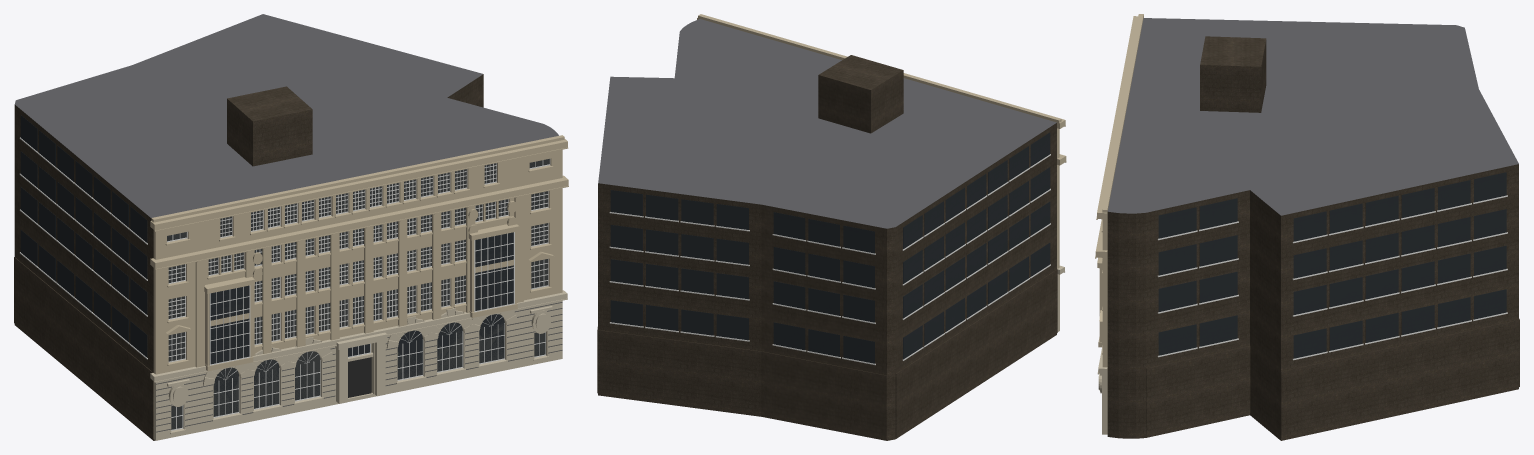
The model's file is hero_m_src.glb.
The picture shows the model from 3 angles, left to right: view 1: azimuth 30°, elevation 25°; view 2: azimuth 150°, elevation 25°; view 3: azimuth 270°, elevation 25°; orthographic projection. The views are drawn at different scales.
Visible parts, largest first — view 1: HERO_body, HERO_cornice.001, HERO_glass, HERO_cartouche, HERO_fan_bar, HERO_rustication_groove, HERO_door_left; view 2: HERO_body, HERO_glass, HERO_fan_bar, HERO_cornice.001; view 3: HERO_body, HERO_glass, HERO_cornice.001, HERO_fan_bar, HERO_cartouche.
Part boxes in pixels (x1=…): HERO_body: x1=14, y1=14, x2=558, y2=440; HERO_cornice.001: x1=150, y1=135, x2=568, y2=374; HERO_glass: x1=20, y1=115, x2=549, y2=429; HERO_cartouche: x1=150, y1=290, x2=567, y2=440; HERO_fan_bar: x1=19, y1=137, x2=550, y2=430; HERO_rustication_groove: x1=156, y1=302, x2=562, y2=432; HERO_door_left: x1=348, y1=357, x2=371, y2=397; HERO_body: x1=597, y1=19, x2=1057, y2=440; HERO_glass: x1=610, y1=132, x2=1050, y2=363; HERO_fan_bar: x1=609, y1=154, x2=1050, y2=365; HERO_cornice.001: x1=697, y1=14, x2=1066, y2=268; HERO_body: x1=1107, y1=18, x2=1519, y2=440; HERO_glass: x1=1158, y1=172, x2=1506, y2=358; HERO_cornice.001: x1=1095, y1=14, x2=1143, y2=367; HERO_fan_bar: x1=1157, y1=195, x2=1507, y2=360; HERO_cartouche: x1=1097, y1=345, x2=1107, y2=434.
Size of the model in its own units: 38.64 by 24.43 by 34.67.
8 materials, 1 textured.
